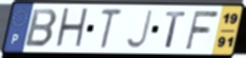B: (23, 7, 60, 49)
F: (183, 10, 221, 51)
H: (53, 6, 91, 51)
J: (124, 9, 154, 50)
T: (98, 7, 125, 51), (163, 10, 188, 50)
